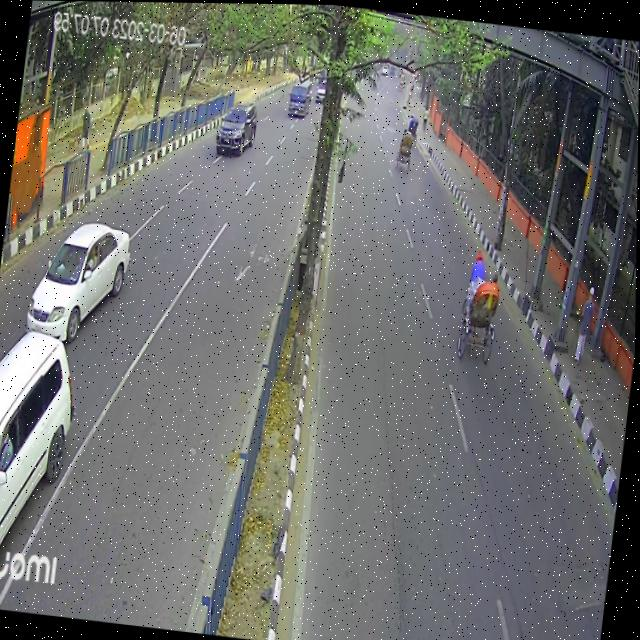rikshaw: (454, 253, 511, 366), (398, 127, 415, 167), (406, 106, 420, 145)
